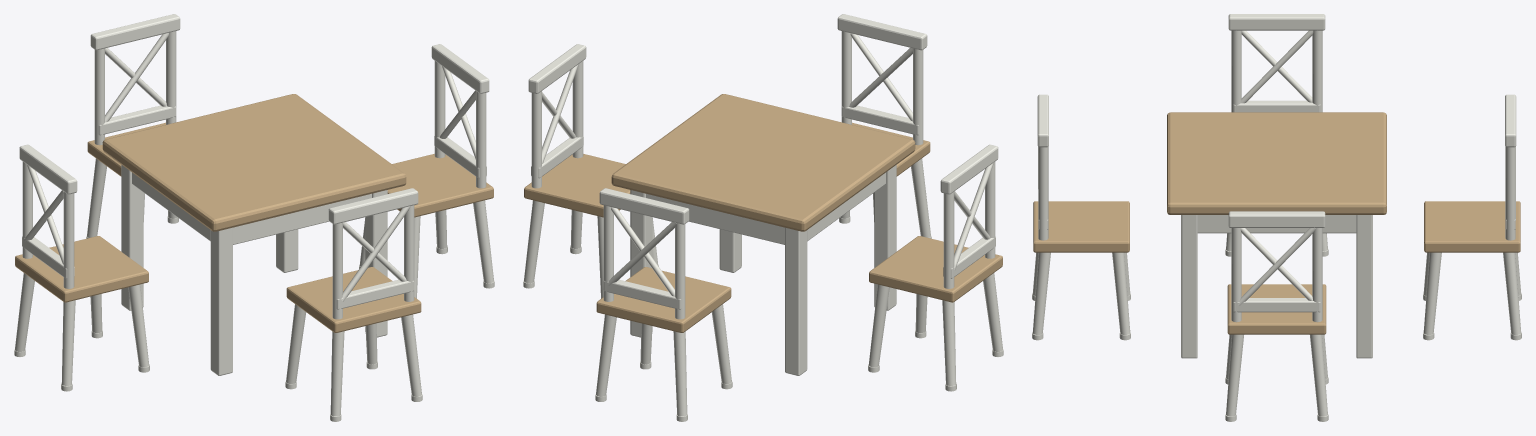
The model's file is kitchen_set_cottage.glb.
3 renders of one model, left to right at view 1: azimuth 30°, elevation 25°; view 2: azimuth 150°, elevation 25°; view 3: azimuth 270°, elevation 25°, orthographic.
Visible parts, largest first — view 1: Square cottage table tabletop, Cottage cross-back chair 4 seat, Cottage cross-back chair 1 seat, Cottage cross-back chair 2 seat, Square cottage table leg, Square cottage table leg.001, Square cottage table long apron, Cottage cross-back chair 3 back top rail, Cottage cross-back chair 1 back top rail, Cottage cross-back chair 4 back top rail, Cottage cross-back chair 2 back top rail, Square cottage table leg.002 (+30 smaller); view 2: Square cottage table tabletop, Cottage cross-back chair 4 seat, Cottage cross-back chair 3 seat, Cottage cross-back chair 2 seat, Square cottage table leg.001, Square cottage table leg, Square cottage table long apron.001, Cottage cross-back chair 1 back top rail, Cottage cross-back chair 3 back top rail, Cottage cross-back chair 4 back top rail, Cottage cross-back chair 2 back top rail, Square cottage table leg.003 (+30 smaller); view 3: Square cottage table tabletop, Cottage cross-back chair 1 seat, Cottage cross-back chair 3 seat, Cottage cross-back chair 2 seat, Square cottage table leg.002, Square cottage table leg.003, Cottage cross-back chair 2 back top rail, Cottage cross-back chair 4 back top rail, Square cottage table end apron.001, Cottage cross-back chair 2 lower back rail, Cottage cross-back chair 4 lower back rail, Cottage cross-back chair 1 back post (+17 smaller).
Boxes of the visible parts, x1,y1,x2,y2 form: Square cottage table tabletop: (102, 94, 406, 231); Cottage cross-back chair 4 seat: (15, 236, 148, 302); Cottage cross-back chair 1 seat: (286, 267, 421, 332); Cottage cross-back chair 2 seat: (387, 154, 493, 217); Square cottage table leg: (210, 227, 232, 375); Square cottage table leg.001: (121, 165, 143, 310); Square cottage table long apron: (233, 193, 371, 244); Cottage cross-back chair 3 back top rail: (90, 14, 180, 50); Cottage cross-back chair 1 back top rail: (328, 188, 418, 224); Cottage cross-back chair 4 back top rail: (19, 144, 77, 194); Cottage cross-back chair 2 back top rail: (431, 44, 489, 93); Square cottage table leg.002: (365, 190, 387, 337); Square cottage table tabletop: (611, 94, 915, 231); Cottage cross-back chair 4 seat: (869, 236, 1002, 302); Cottage cross-back chair 3 seat: (596, 267, 731, 332); Cottage cross-back chair 2 seat: (524, 154, 630, 217); Square cottage table leg.001: (785, 227, 807, 375); Square cottage table leg: (874, 165, 896, 310); Square cottage table long apron.001: (646, 193, 784, 244); Cottage cross-back chair 1 back top rail: (837, 14, 927, 50); Cottage cross-back chair 3 back top rail: (599, 188, 689, 224); Cottage cross-back chair 4 back top rail: (940, 144, 998, 194); Cottage cross-back chair 2 back top rail: (528, 44, 586, 93); Square cottage table leg.003: (630, 190, 652, 337); Square cottage table tabletop: (1167, 112, 1386, 214); Cottage cross-back chair 1 seat: (1033, 201, 1129, 252); Cottage cross-back chair 3 seat: (1424, 201, 1520, 252); Cottage cross-back chair 2 seat: (1227, 284, 1326, 334); Square cottage table leg.002: (1181, 215, 1197, 358); Square cottage table leg.003: (1356, 215, 1372, 358); Cottage cross-back chair 2 back top rail: (1228, 211, 1325, 227); Cottage cross-back chair 4 back top rail: (1228, 14, 1325, 30); Square cottage table end apron.001: (1197, 215, 1356, 233); Cottage cross-back chair 2 lower back rail: (1233, 298, 1320, 312); Cottage cross-back chair 4 lower back rail: (1233, 100, 1320, 112); Cottage cross-back chair 1 back post: (1038, 147, 1048, 240).
Size of the model in its own units: 2.18 by 1 by 2.18.
